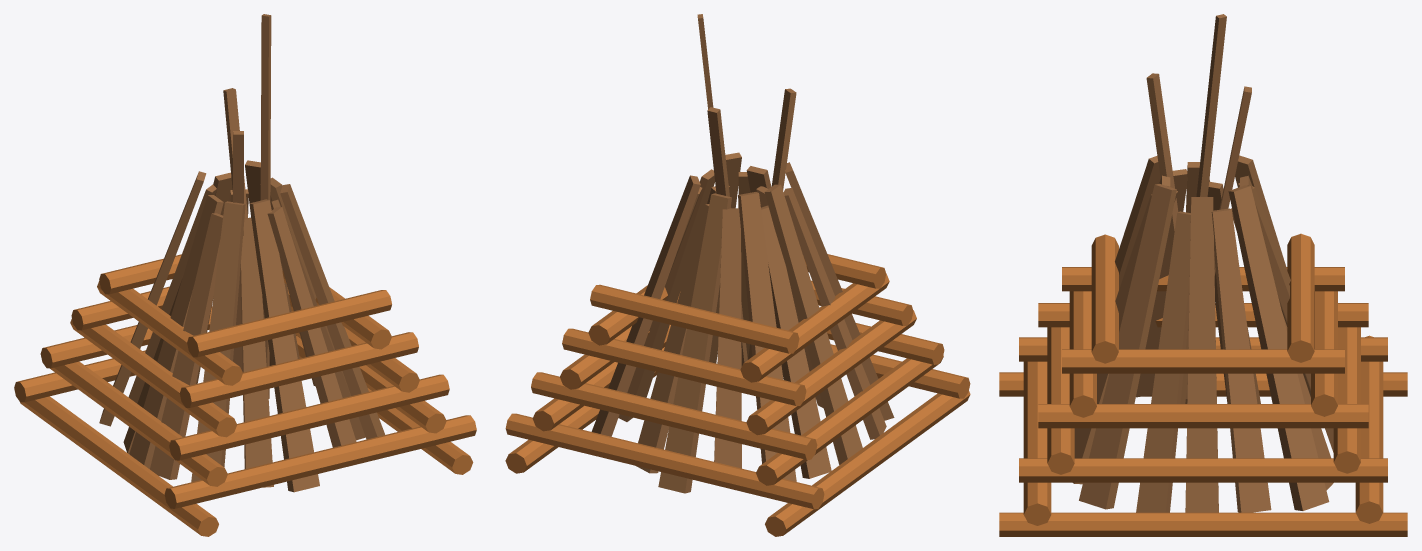
File: firewood.fbx
3 renders of one model, left to right at view 1: azimuth 30°, elevation 25°; view 2: azimuth 150°, elevation 25°; view 3: azimuth 270°, elevation 25°, orthographic. The views are drawn at different scales.
Parts seen in each view (by area): view 1: 立方體.001; view 2: 立方體.001; view 3: 立方體.001.
Boxes of the visible parts, x1,y1,x2,y2 form: 立方體.001: (14, 14, 476, 536); 立方體.001: (505, 14, 970, 536); 立方體.001: (999, 14, 1407, 536).
Size of the model in its own units: 1296 by 1698 by 1333.
